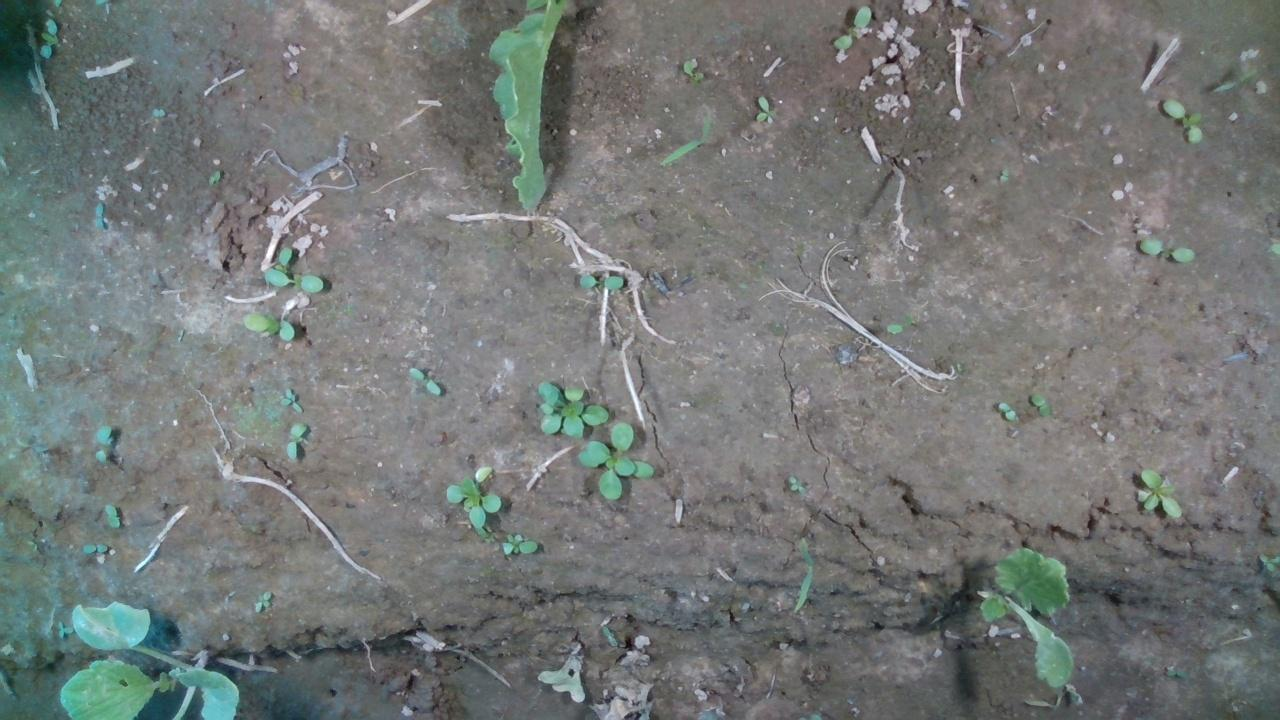weed: (1135, 465, 1183, 518), (1159, 98, 1202, 145), (832, 5, 870, 51), (240, 309, 295, 340), (1136, 236, 1198, 261), (404, 365, 443, 396), (498, 530, 540, 555), (283, 422, 308, 459), (92, 422, 114, 464), (37, 17, 59, 57), (576, 272, 623, 289), (752, 93, 775, 124), (279, 385, 303, 414), (102, 503, 121, 530), (1028, 394, 1049, 416), (996, 402, 1019, 420), (82, 542, 109, 552)
